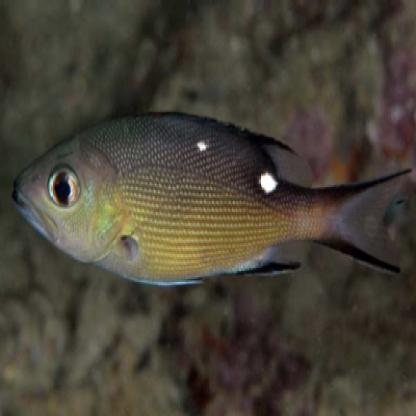Lutjanidae -Snappers-: (9, 101, 414, 302)
